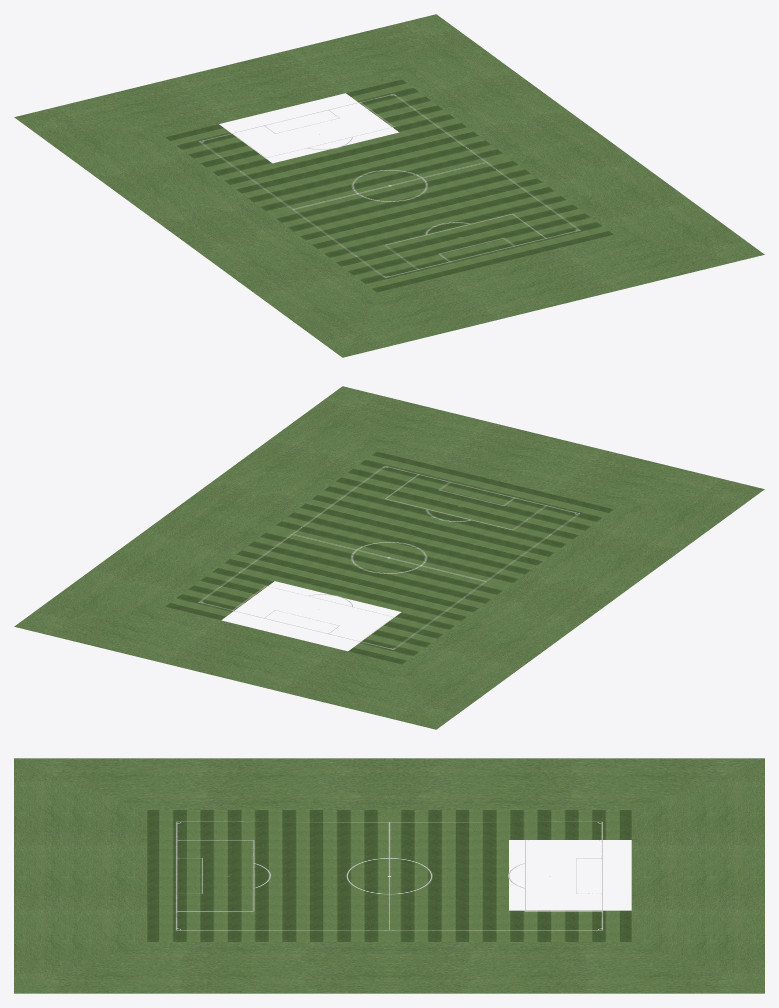
File: field2.FBX
3 renders of one model, top to bottom at view 1: azimuth 30°, elevation 25°; view 2: azimuth 150°, elevation 25°; view 3: azimuth 270°, elevation 25°, orthographic. The views are drawn at different scales.
Parts seen in each view (by area): view 1: sfield; view 2: sfield; view 3: sfield.
Part boxes in pixels (x1,y1,x2,y2): sfield: [14, 14, 764, 357]; sfield: [14, 386, 764, 729]; sfield: [14, 758, 764, 993].
Size of the model in its own units: 1250 by 0.000254 by 1684.
